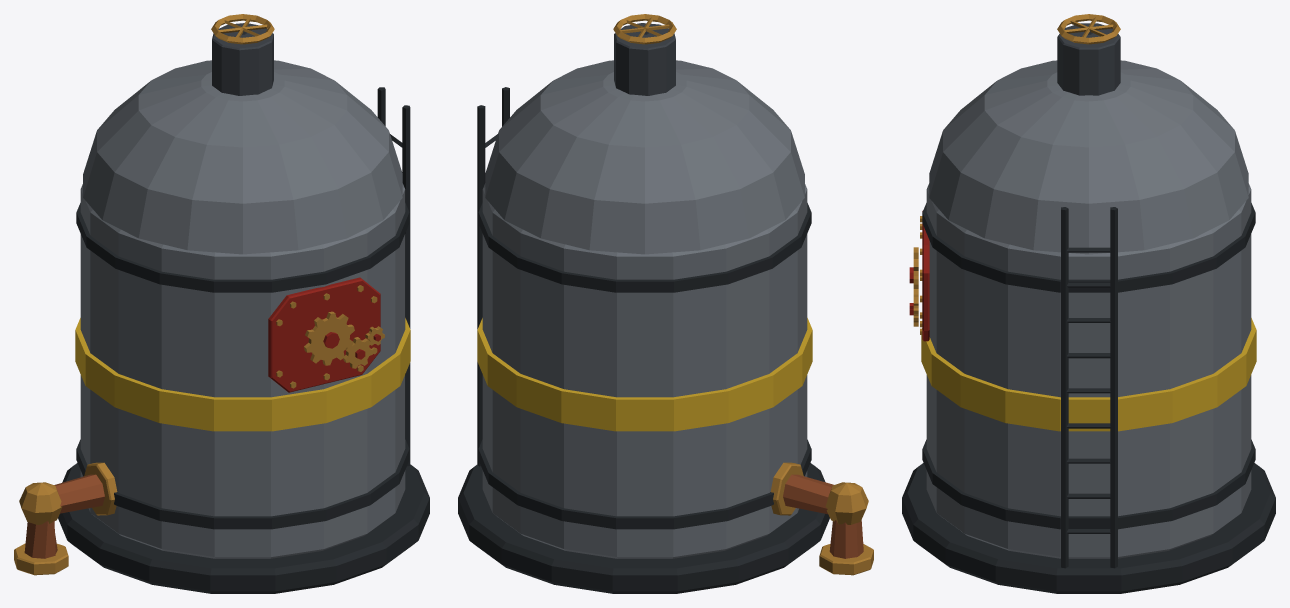
File: cog_tank_a.fbx
The picture shows the model from 3 angles, left to right: view 1: azimuth 30°, elevation 25°; view 2: azimuth 150°, elevation 25°; view 3: azimuth 270°, elevation 25°; orthographic projection.
Parts seen in each view (by area): view 1: Body; view 2: Body; view 3: Body.
Part boxes in pixels (bbox=[...]): Body: bbox=[14, 14, 429, 593]; Body: bbox=[458, 14, 873, 593]; Body: bbox=[902, 14, 1275, 593].
Size of the model in its own units: 12.62 by 15.4 by 10.6.
1 material, 1 textured.
